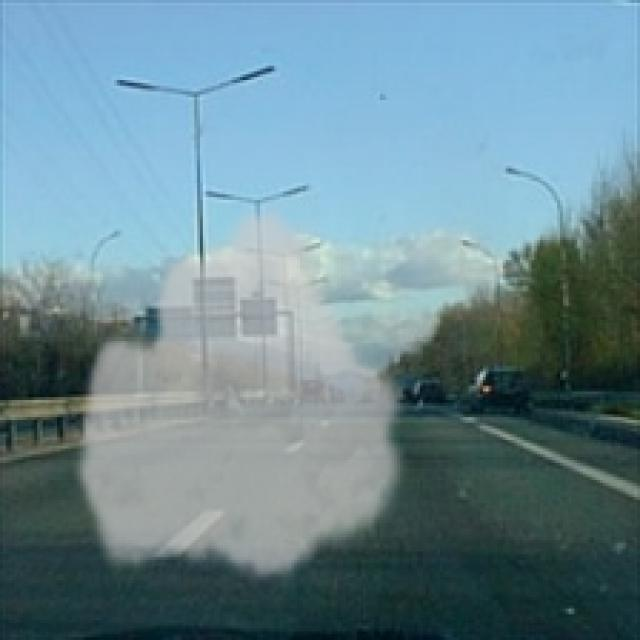Smoke: (72, 197, 414, 583)
